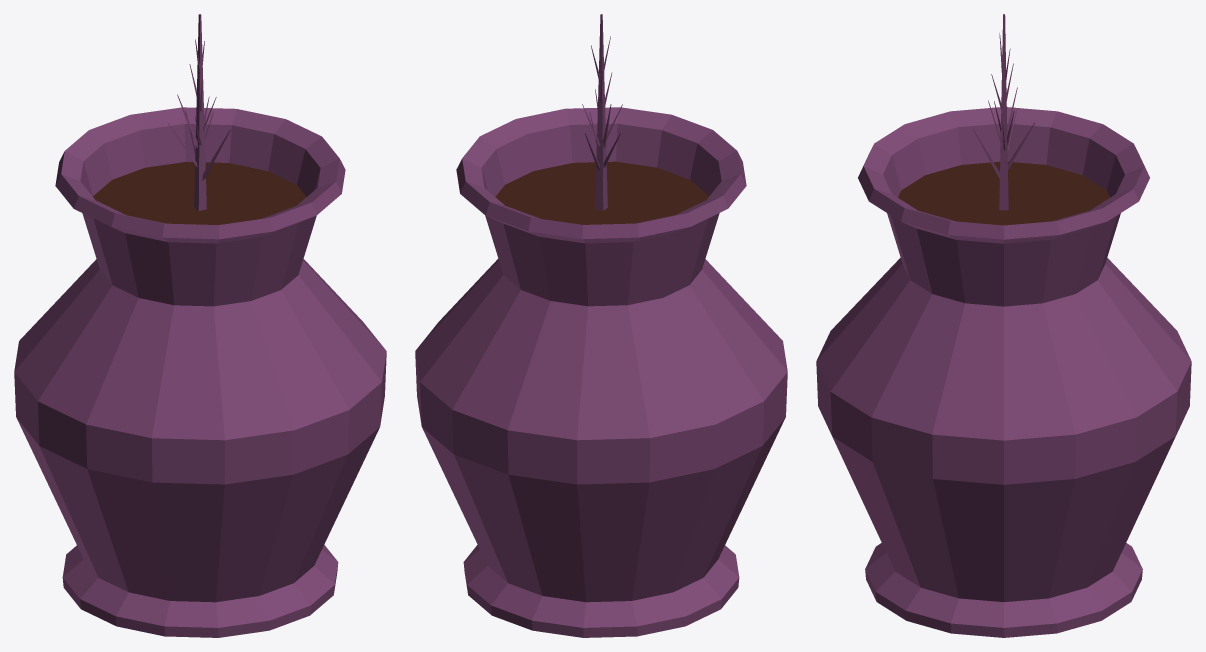
File: Plant in Pot.fbx
3 views of the same model, side by side, from view 1: azimuth 30°, elevation 25°; view 2: azimuth 150°, elevation 25°; view 3: azimuth 270°, elevation 25° (orthographic).
Visible parts, largest first — view 1: Pot.001; view 2: Pot.001; view 3: Pot.001.
Boxes of the visible parts, x1,y1,x2,y2 form: Pot.001: (14, 14, 386, 637); Pot.001: (415, 14, 787, 637); Pot.001: (816, 14, 1191, 637).
Size of the model in its own units: 32.79 by 54.46 by 32.79.
